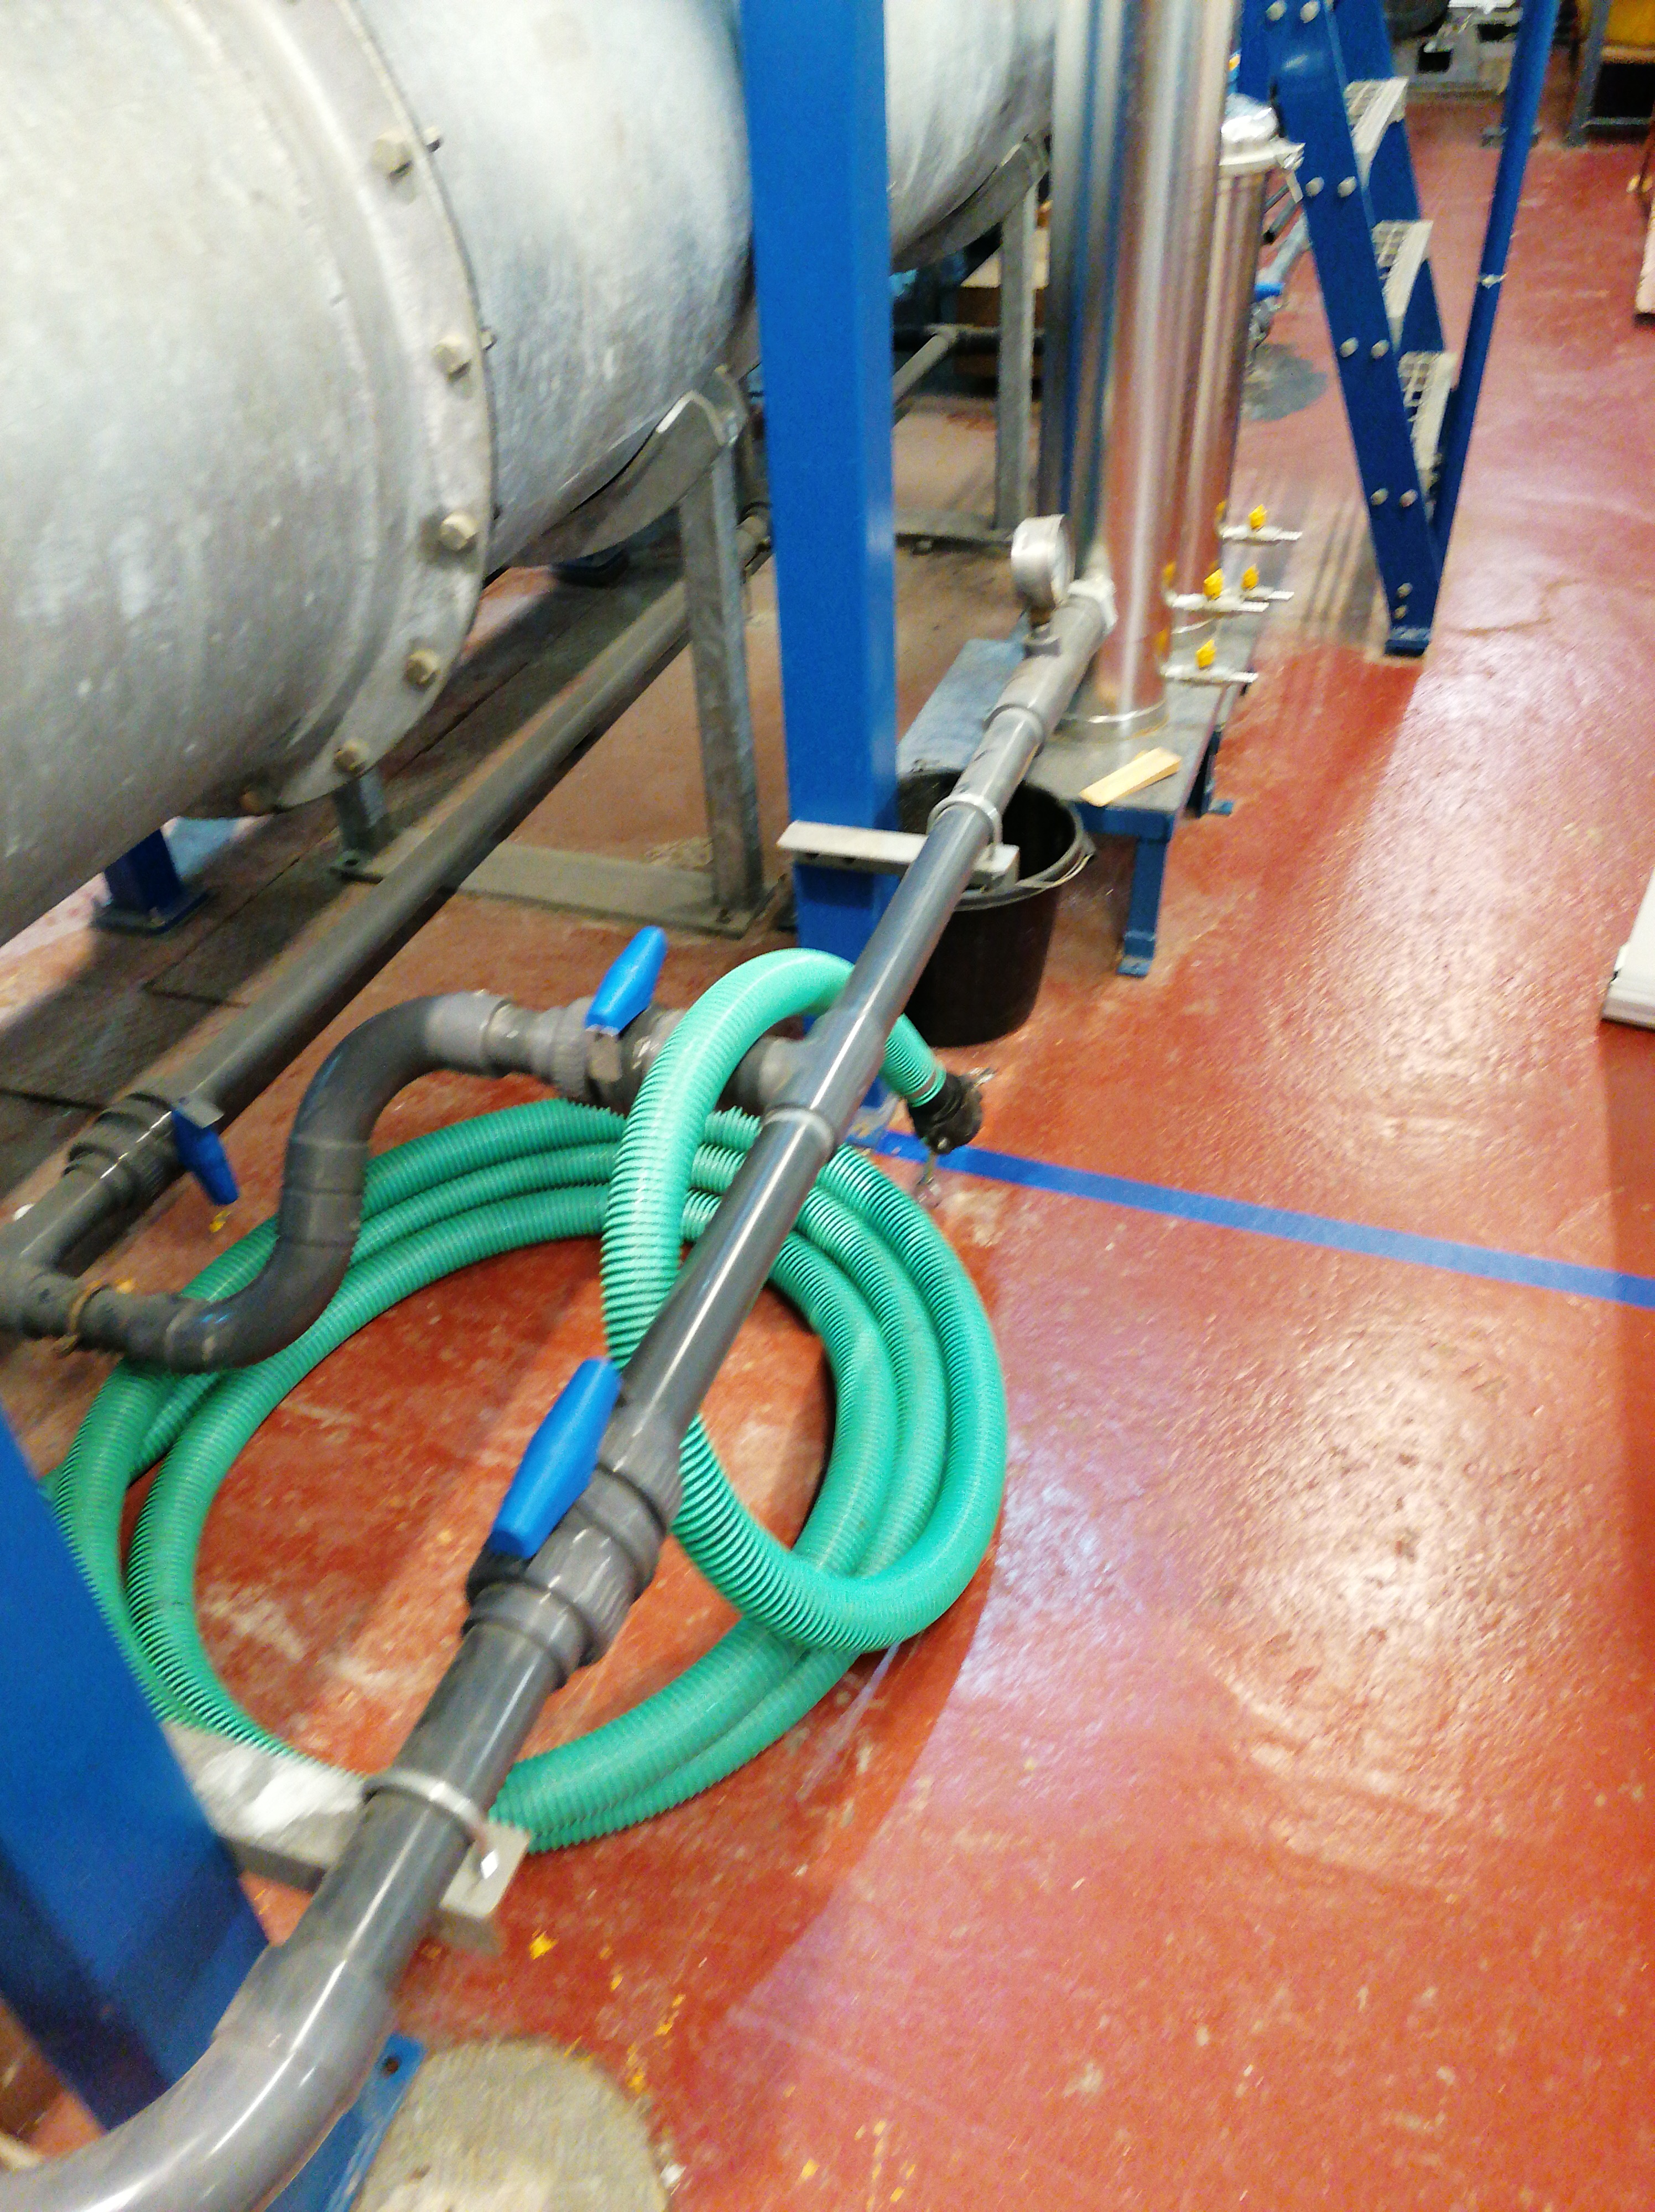bolt: (374, 122, 445, 179), (433, 325, 501, 377), (440, 500, 506, 553), (405, 648, 461, 686)
nut: (233, 777, 283, 822), (332, 735, 376, 780)
pipe: (636, 653, 1050, 1418), (169, 613, 690, 1121), (0, 1943, 403, 2209), (282, 990, 509, 1192), (127, 1189, 360, 1373), (739, 1030, 887, 1142)
